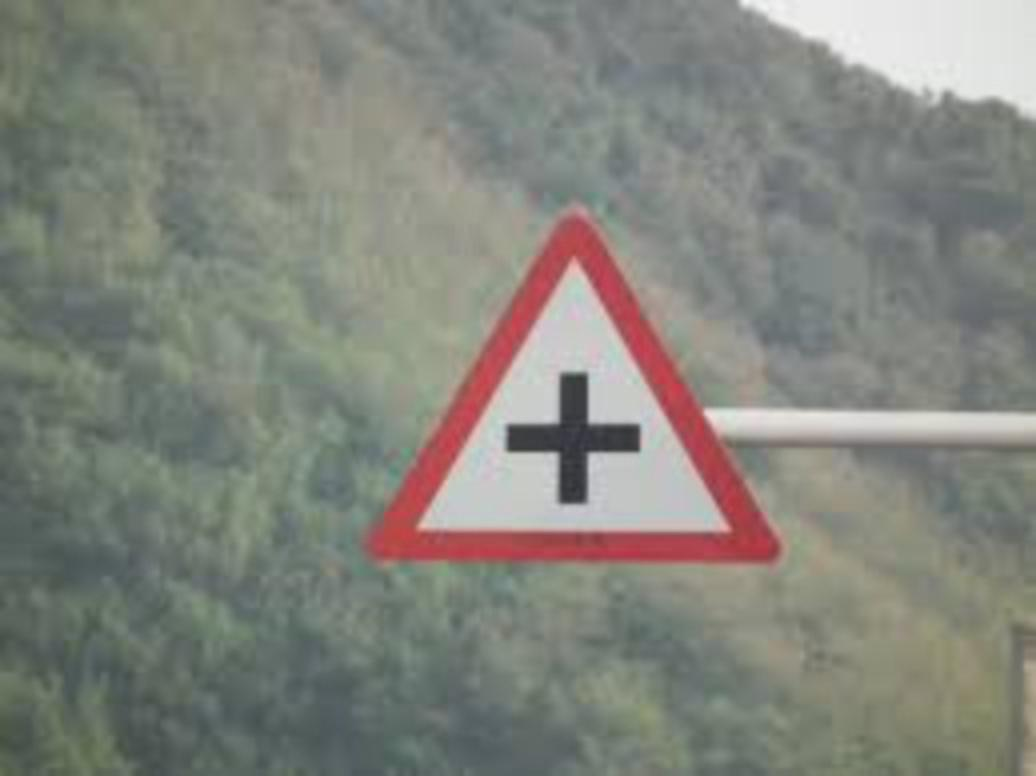fork_road: (366, 202, 786, 570)
